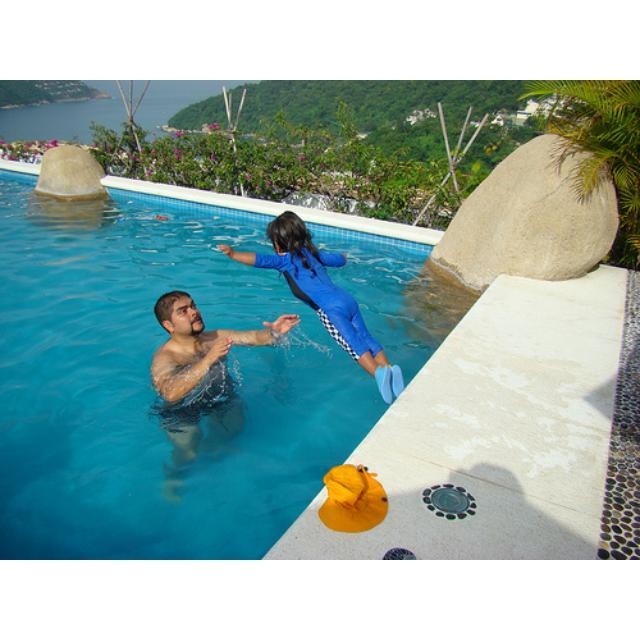human: (149, 289, 302, 474)
